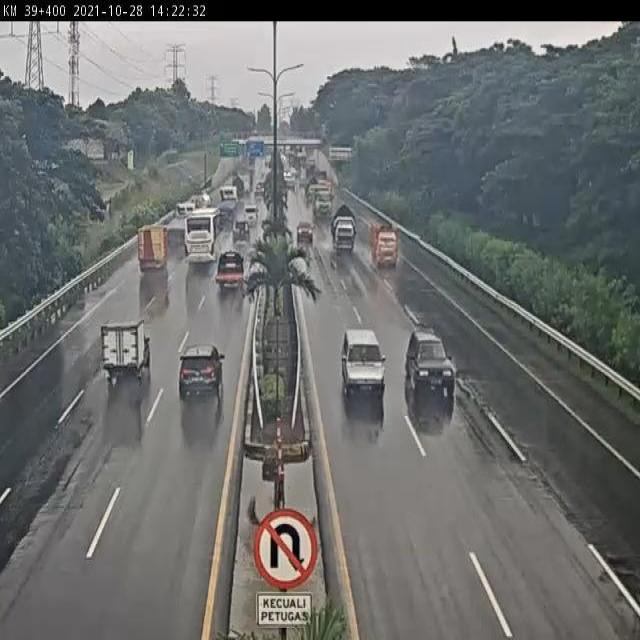big bus: (183, 208, 222, 267)
car: (99, 318, 151, 386), (404, 330, 456, 394), (176, 343, 226, 405), (342, 328, 386, 395), (232, 220, 252, 247), (296, 220, 315, 244)
truck-m-: (332, 204, 356, 253)
truck-s-: (138, 224, 170, 271), (369, 220, 398, 269), (216, 252, 243, 287)
